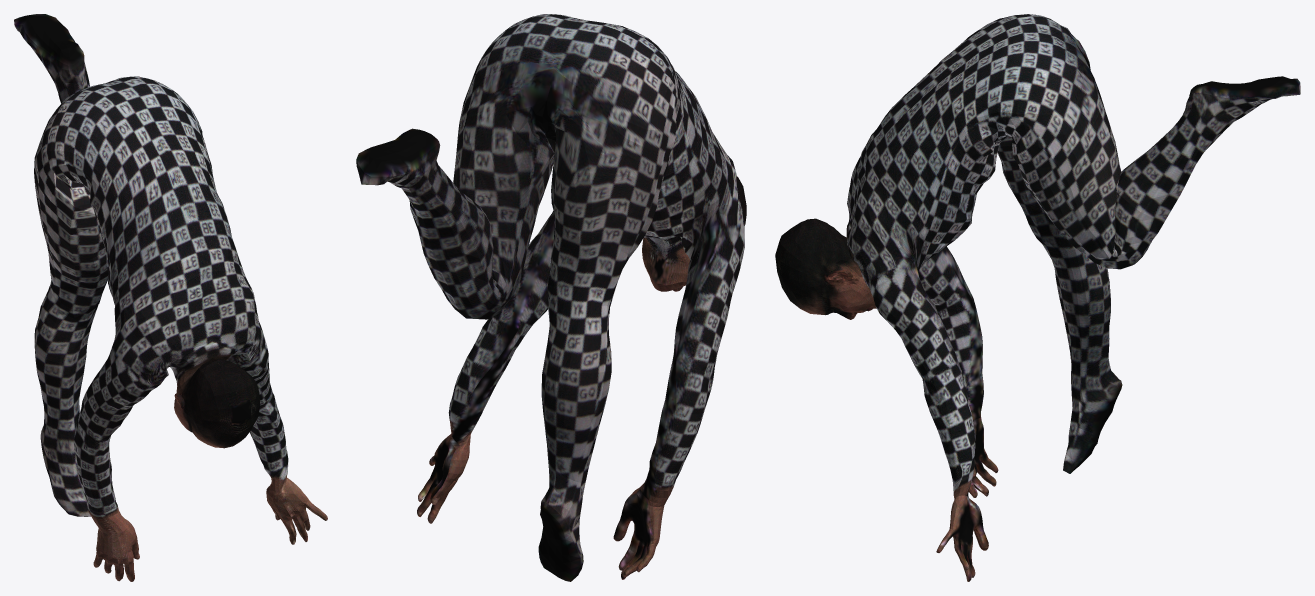
The model's file is InterpolatedMesh.obj.
The picture shows the model from 3 angles, left to right: view 1: azimuth 30°, elevation 25°; view 2: azimuth 150°, elevation 25°; view 3: azimuth 270°, elevation 25°; orthographic projection. The views are drawn at different scales.
Size of the model in its own units: 608 by 1139 by 1132.
Materials: 1 (1 with a texture image).
